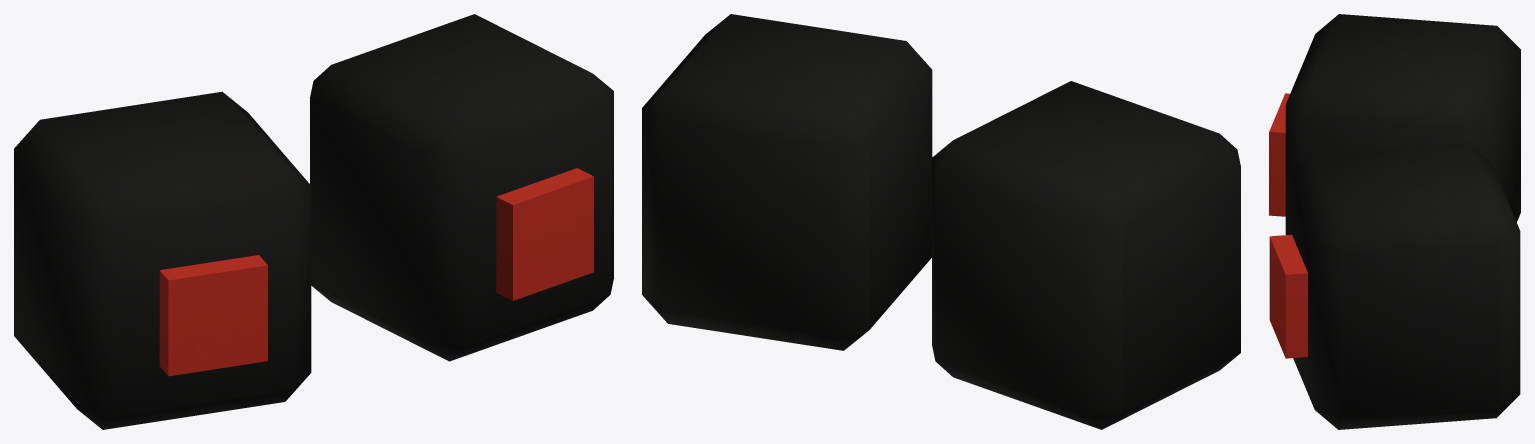
Rendered from eyes_skeleton_neutral.fbx.
The picture shows the model from 3 angles, left to right: view 1: azimuth 30°, elevation 25°; view 2: azimuth 150°, elevation 25°; view 3: azimuth 270°, elevation 25°; orthographic projection. The views are drawn at different scales.
Parts seen in each view (by area): view 1: eyes_skeleton_neutral; view 2: eyes_skeleton_neutral; view 3: eyes_skeleton_neutral.
Boxes of the visible parts, bbox=[...] form: eyes_skeleton_neutral: bbox=[14, 14, 613, 429]; eyes_skeleton_neutral: bbox=[642, 14, 1240, 429]; eyes_skeleton_neutral: bbox=[1269, 14, 1520, 429].
Size of the model in its own units: 39.14 by 16.53 by 18.2.
